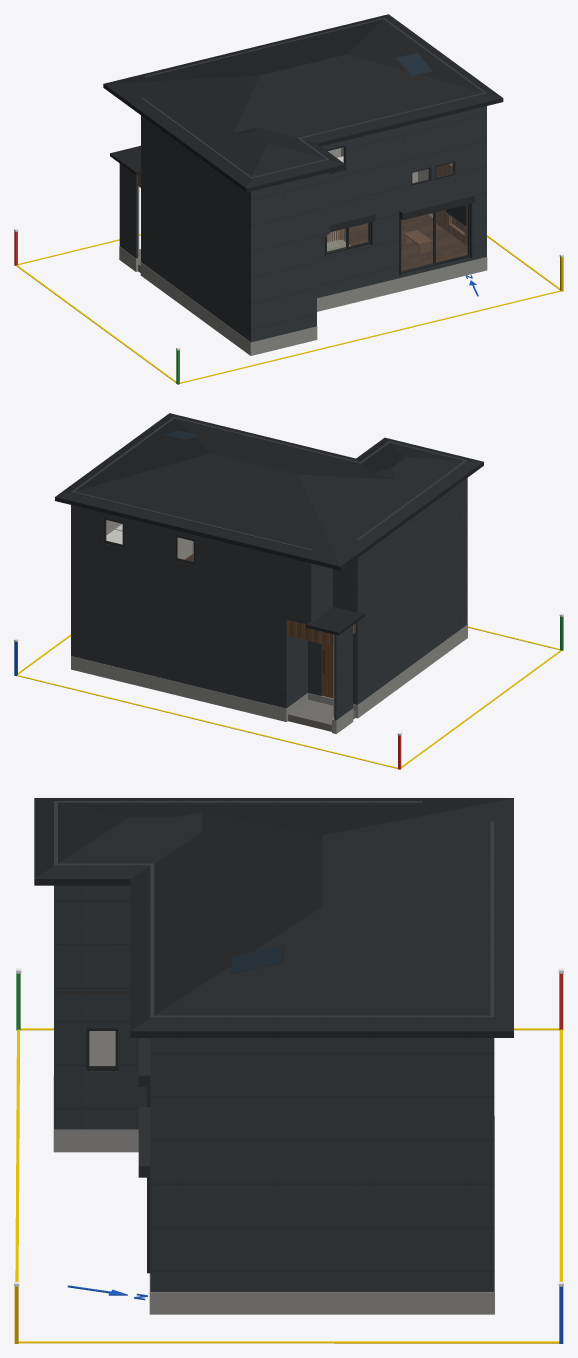
3 views of the same model, one above another, from view 1: azimuth 30°, elevation 25°; view 2: azimuth 150°, elevation 25°; view 3: azimuth 270°, elevation 25° (orthographic). The views are drawn at different scales.
Visible parts, largest first — view 1: siding, roof, found, glass, floor, shutter, lotline, frame, accent; view 2: siding, roof, found, lotline, tile, woodceil, glass, wall, door, frame; view 3: siding, roof, found, lotline, shutter, wall, glass, skylight.
Part boxes in pixels (bbox=[...]): siding: bbox=[119, 18, 486, 342]; roof: bbox=[103, 14, 503, 192]; found: bbox=[119, 246, 487, 355]; glass: bbox=[327, 148, 467, 270]; floor: bbox=[327, 214, 467, 270]; shutter: bbox=[325, 193, 474, 275]; lotline: bbox=[16, 234, 560, 383]; frame: bbox=[326, 145, 469, 273]; accent: bbox=[436, 163, 467, 245]; siding: bbox=[71, 417, 467, 720]; roof: bbox=[55, 413, 483, 635]; found: bbox=[71, 624, 467, 733]; lotline: bbox=[17, 626, 561, 768]; tile: bbox=[288, 699, 355, 731]; woodceil: bbox=[287, 620, 355, 646]; glass: bbox=[106, 520, 193, 561]; wall: bbox=[106, 520, 334, 715]; door: bbox=[322, 644, 333, 698]; frame: bbox=[103, 517, 324, 673]; siding: bbox=[54, 801, 494, 1291]; roof: bbox=[34, 798, 513, 1037]; found: bbox=[53, 1076, 494, 1314]; lotline: bbox=[15, 1028, 562, 1343]; shutter: bbox=[138, 1038, 150, 1273]; wall: bbox=[89, 1031, 115, 1065]; glass: bbox=[90, 1031, 114, 1065]; skylight: bbox=[232, 945, 282, 972].
Bounding box in the file's own units: 14.14 × 7.01 × 10.42.
Materials: 41 (6 with a texture image).
